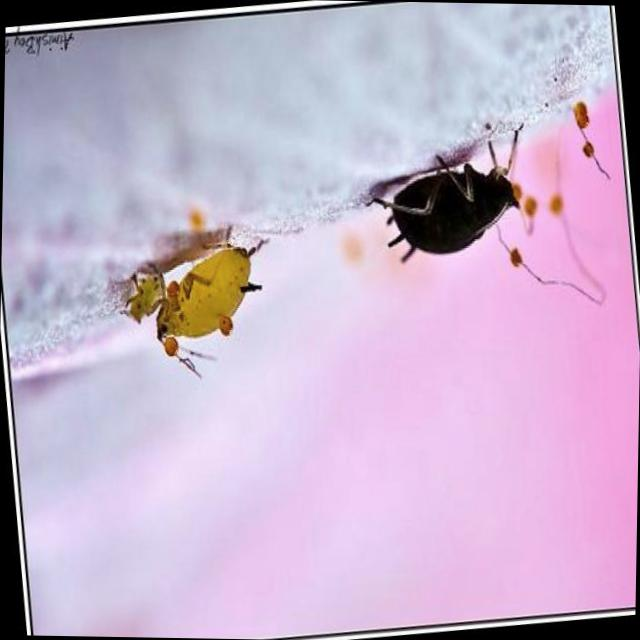aphid: (315, 90, 595, 373), (112, 196, 292, 377)
